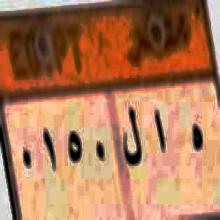0: (95, 129, 110, 179), (20, 142, 33, 182)
1: (38, 115, 59, 180)
5: (66, 122, 85, 166)
alif: (152, 103, 170, 159)
haa: (190, 116, 206, 162)
laam: (122, 103, 143, 176)
